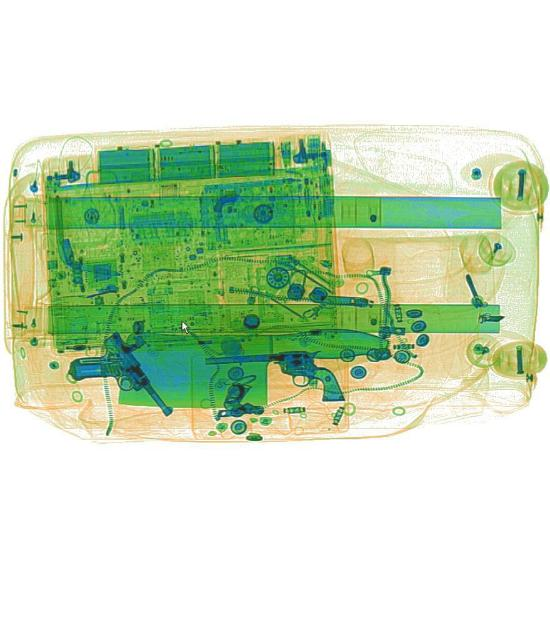Gun: (60, 322, 179, 451), (200, 345, 346, 407)
Knife: (110, 324, 390, 416)
